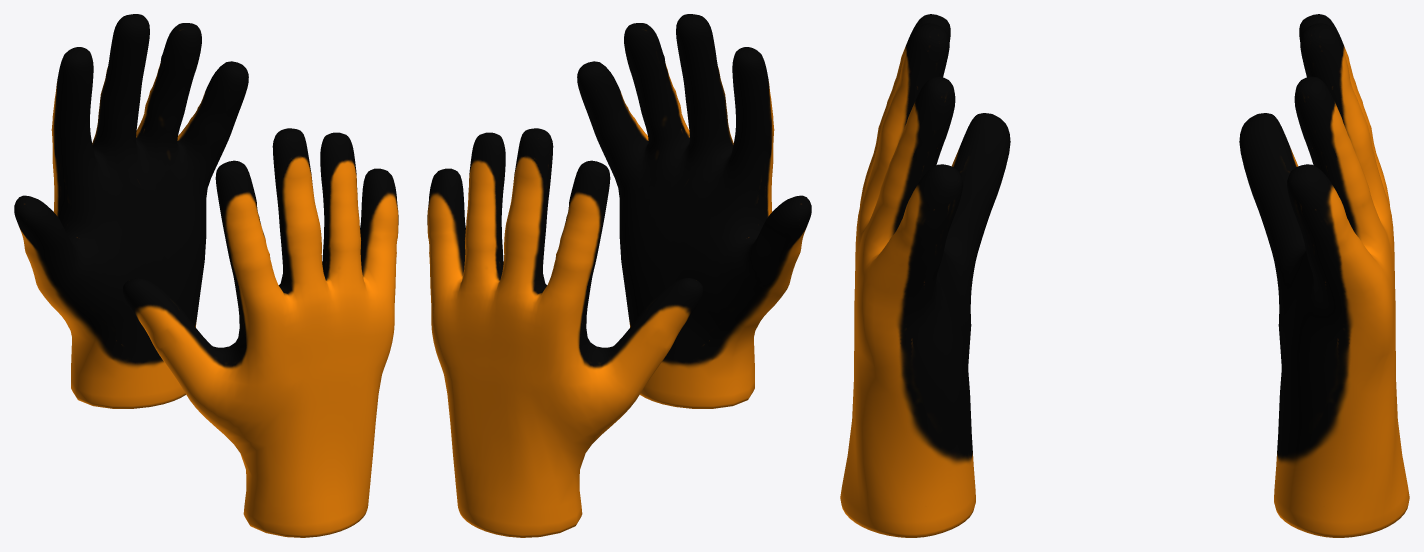
File: guanti.fbx
3 views of the same model, side by side, from view 1: azimuth 30°, elevation 25°; view 2: azimuth 150°, elevation 25°; view 3: azimuth 270°, elevation 25° (orthographic). The views are drawn at different scales.
Visible parts, largest first — view 1: gu8anto.002, gu8anto.001; view 2: gu8anto.001, gu8anto.002; view 3: gu8anto.001, gu8anto.002.
Part boxes in pixels (<box>): gu8anto.002: <box>122,128,398,537</box>; gu8anto.001: <box>14,14,248,408</box>; gu8anto.001: <box>427,128,703,537</box>; gu8anto.002: <box>577,14,811,408</box>; gu8anto.001: <box>1239,14,1409,537</box>; gu8anto.002: <box>840,14,1010,537</box>.
Bounding box in the file's own units: 54.69 × 79.63 × 86.77.
1 material, 1 textured.
